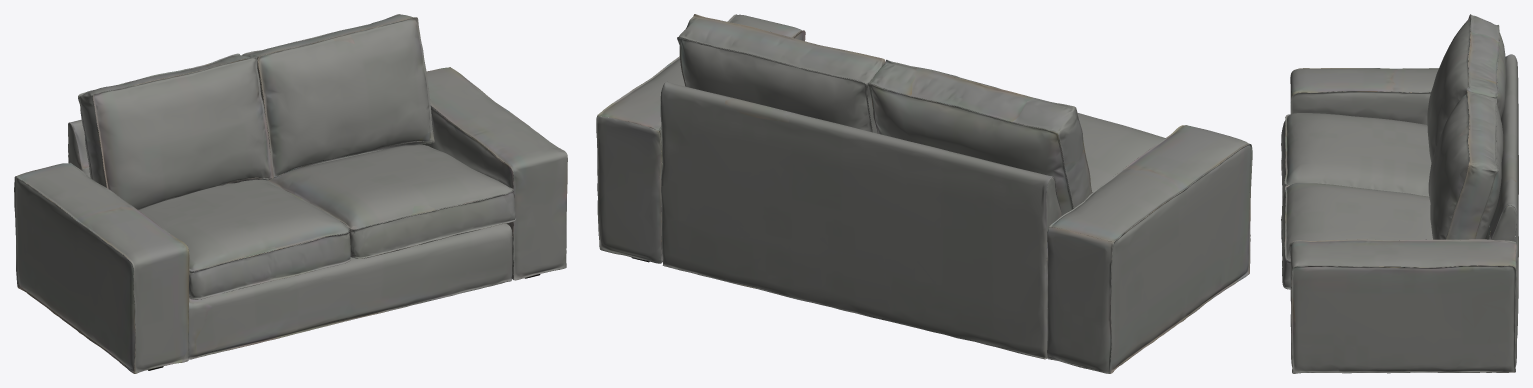
3 views of the same model, side by side, from view 1: azimuth 30°, elevation 25°; view 2: azimuth 150°, elevation 25°; view 3: azimuth 270°, elevation 25° (orthographic). The views are drawn at different scales.
Visible parts, largest first — view 1: 09440599; view 2: 09440599; view 3: 09440599.
Boxes of the visible parts, x1=… form: 09440599: x1=14, y1=14, x2=567, y2=373; 09440599: x1=596, y1=14, x2=1252, y2=373; 09440599: x1=1281, y1=14, x2=1518, y2=373.
Size of the model in its own units: 1.88 by 0.8429 by 0.9423.
2 materials, 2 textured.
